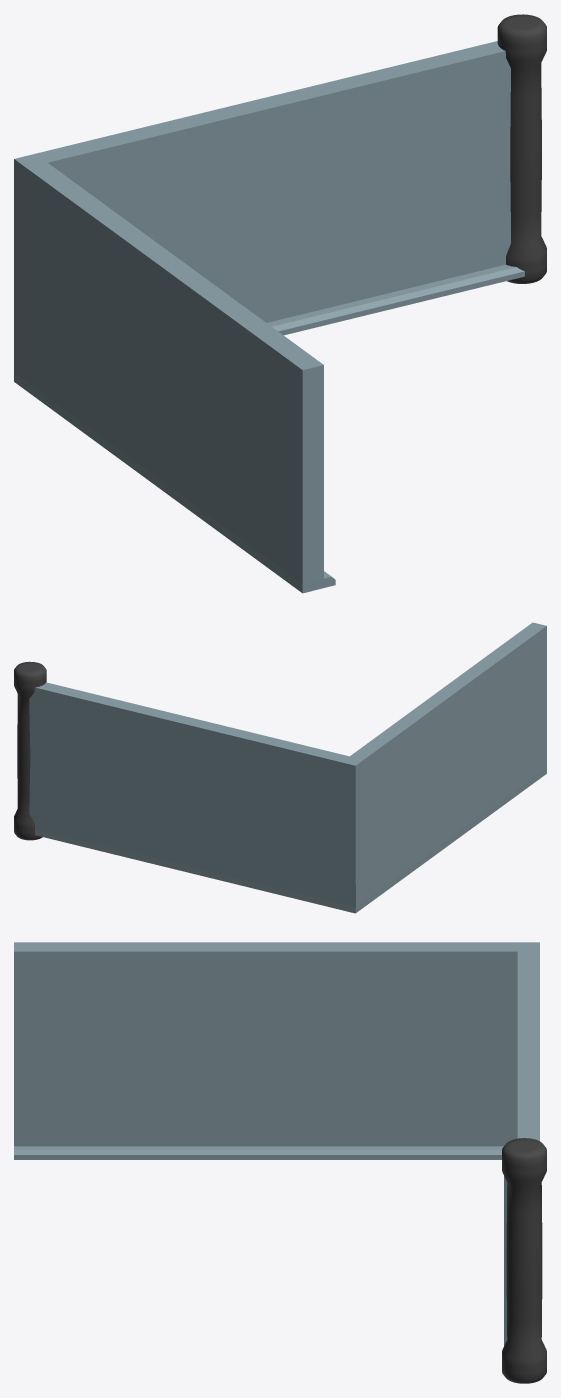
The model's file is big wall corner 1 pillar.fbx.
3 renders of one model, top to bottom at view 1: azimuth 30°, elevation 25°; view 2: azimuth 150°, elevation 25°; view 3: azimuth 270°, elevation 25°, orthographic. The views are drawn at different scales.
Parts seen in each view (by area): view 1: Corner_wall_big_1_pillar; view 2: Corner_wall_big_1_pillar; view 3: Corner_wall_big_1_pillar.
Boxes of the visible parts, x1,y1,x2,y2 form: Corner_wall_big_1_pillar: [14, 14, 546, 593]; Corner_wall_big_1_pillar: [14, 622, 546, 913]; Corner_wall_big_1_pillar: [14, 942, 546, 1383].
Bounding box in the file's own units: 1909 × 881 × 1856.
